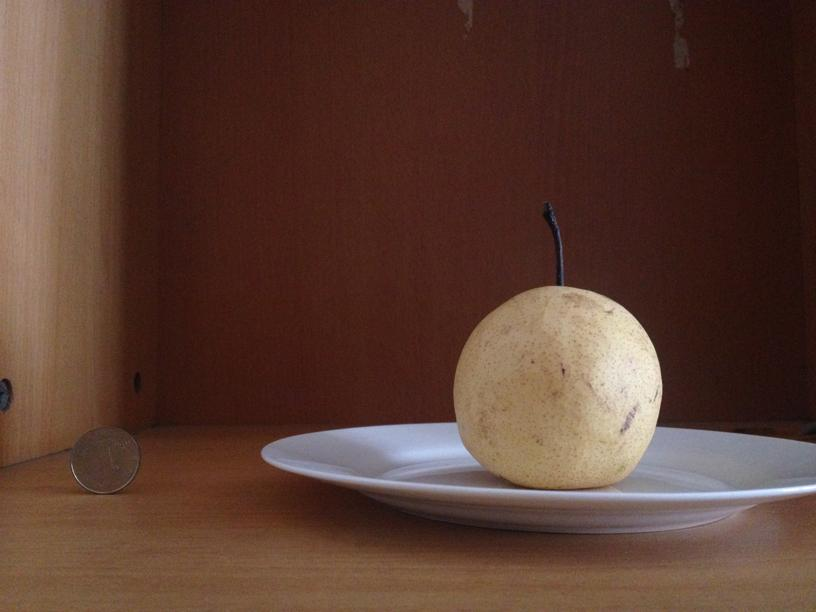coin: (71, 424, 141, 494)
pear: (450, 286, 664, 489)
